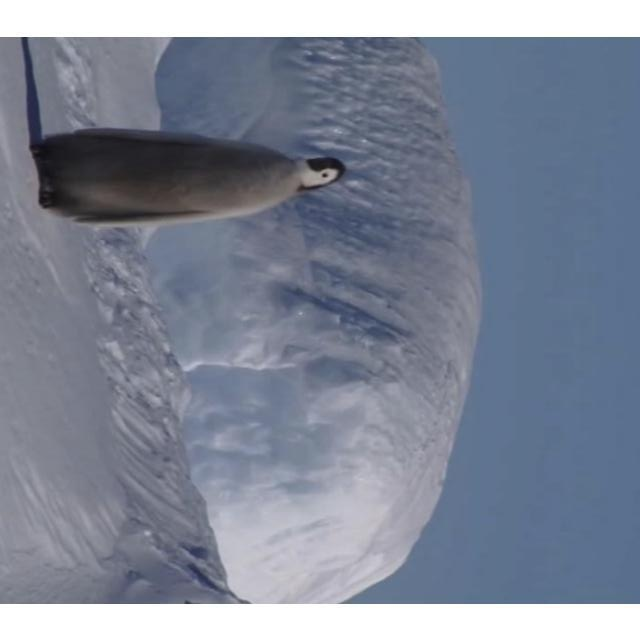turtle: (296, 272, 336, 373)
